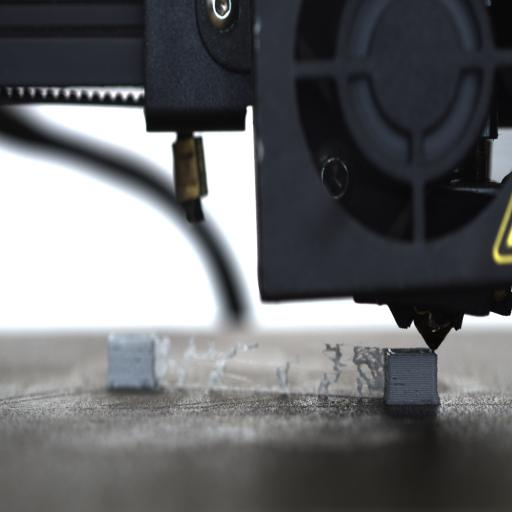stringing: (199, 337, 260, 391), (351, 344, 387, 398)
